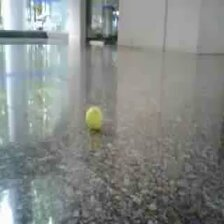tennis: (85, 107, 103, 128)
